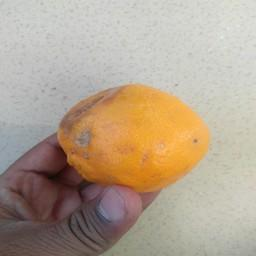Bad_orange: (53, 85, 210, 190)
